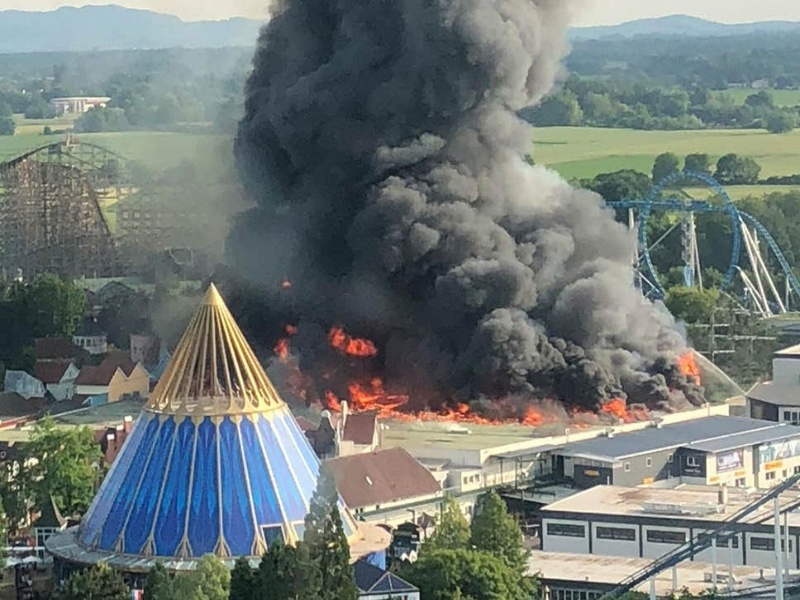smoke: (243, 1, 674, 378)
